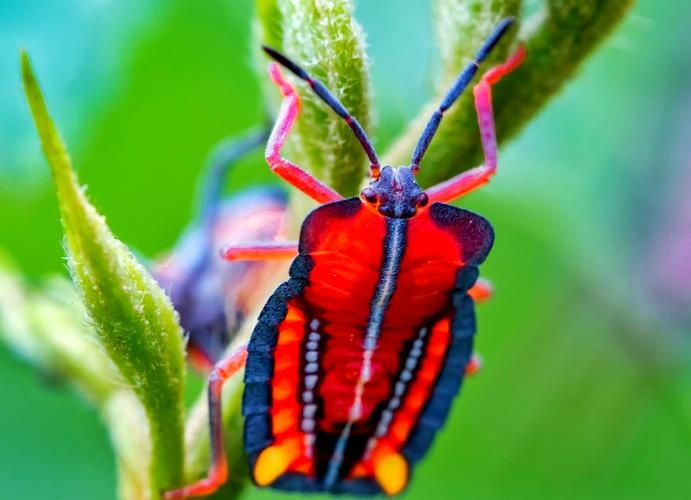Stink_Bug: (264, 119, 453, 495)
